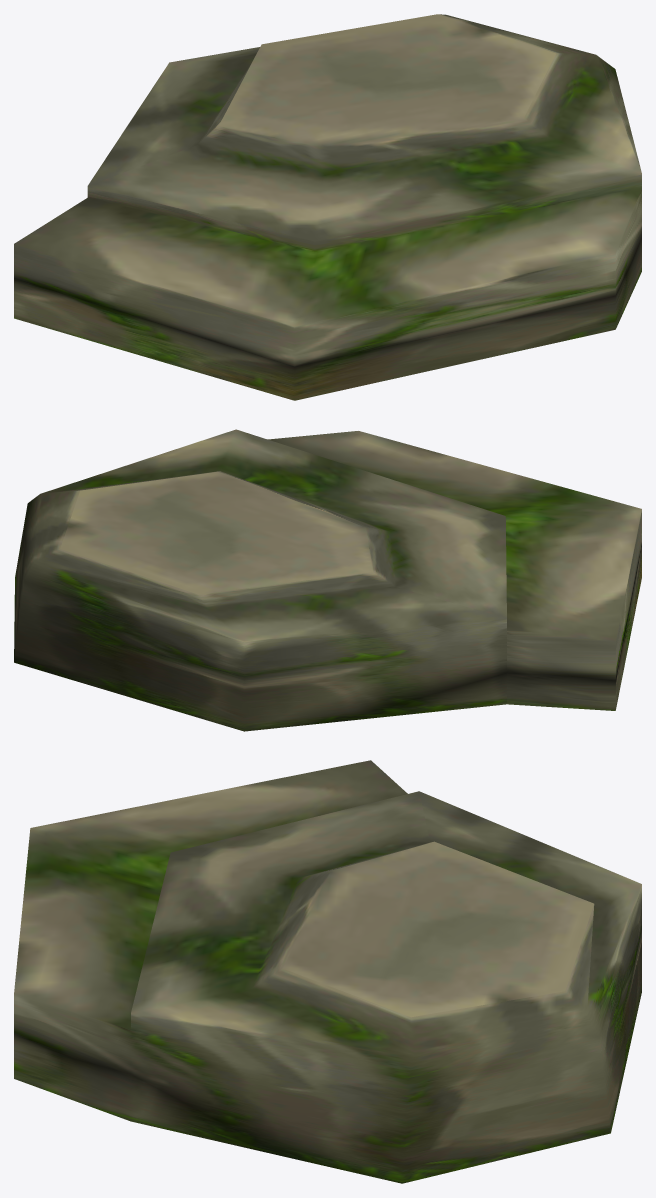
Rendered from RockFormation_4_5 (28).fbx.
The picture shows the model from 3 angles, top to bottom: view 1: azimuth 30°, elevation 25°; view 2: azimuth 150°, elevation 25°; view 3: azimuth 270°, elevation 25°; orthographic projection. The views are drawn at different scales.
Parts seen in each view (by area): view 1: RockFormation_4_5 (28); view 2: RockFormation_4_5 (28); view 3: RockFormation_4_5 (28).
Part boxes in pixels (x1=…): RockFormation_4_5 (28): x1=14, y1=14, x2=641, y2=400; RockFormation_4_5 (28): x1=14, y1=429, x2=641, y2=731; RockFormation_4_5 (28): x1=14, y1=760, x2=641, y2=1183.
Bounding box in the file's own units: 108 × 18.74 × 84.34.
